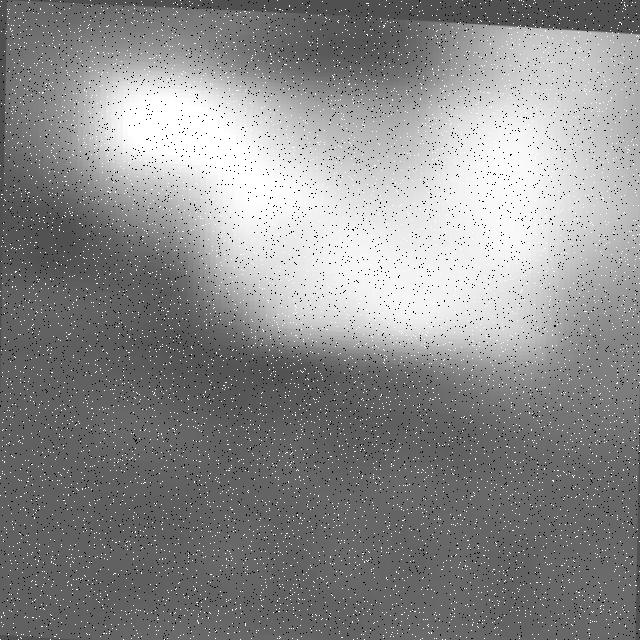person: (45, 3, 640, 377)
